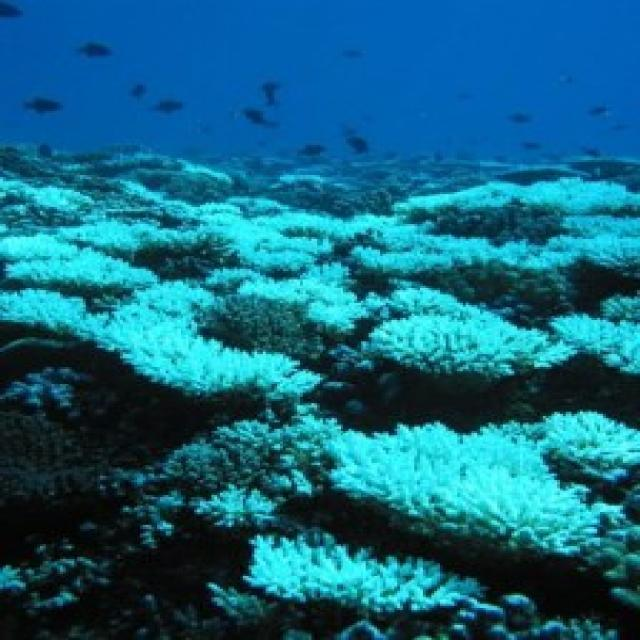Bleached: (383, 180, 640, 220), (4, 180, 92, 226), (4, 232, 86, 264), (176, 159, 234, 204)
